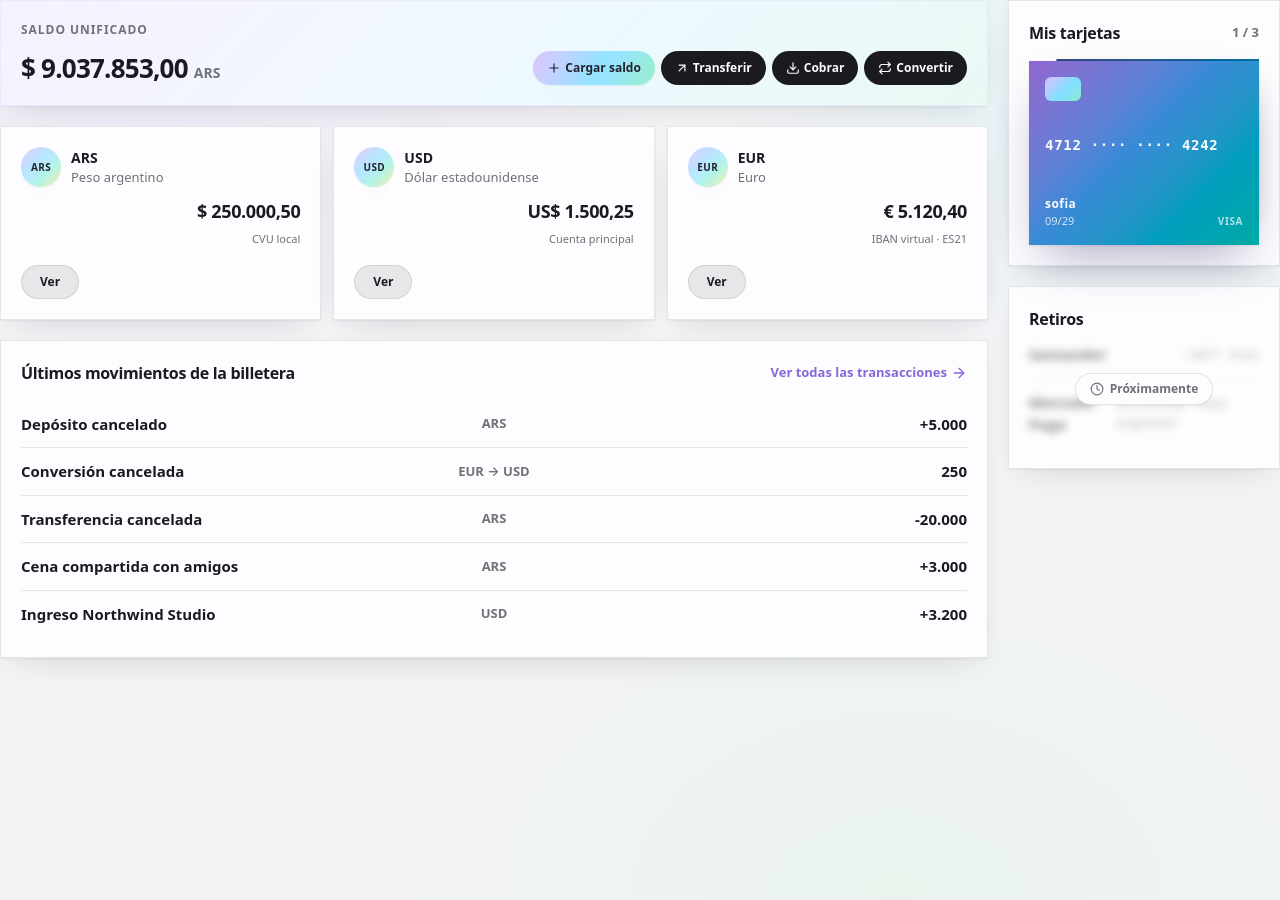
Test: WalletSummary — límites de depósito › exceso de monto: muestra el error en tiempo real y deshabilita Continuar
This screenshot has width=1280, height=900.
Step 1. Click the button "Cargar saldo" → (594,68), box [533, 51, 655, 85]
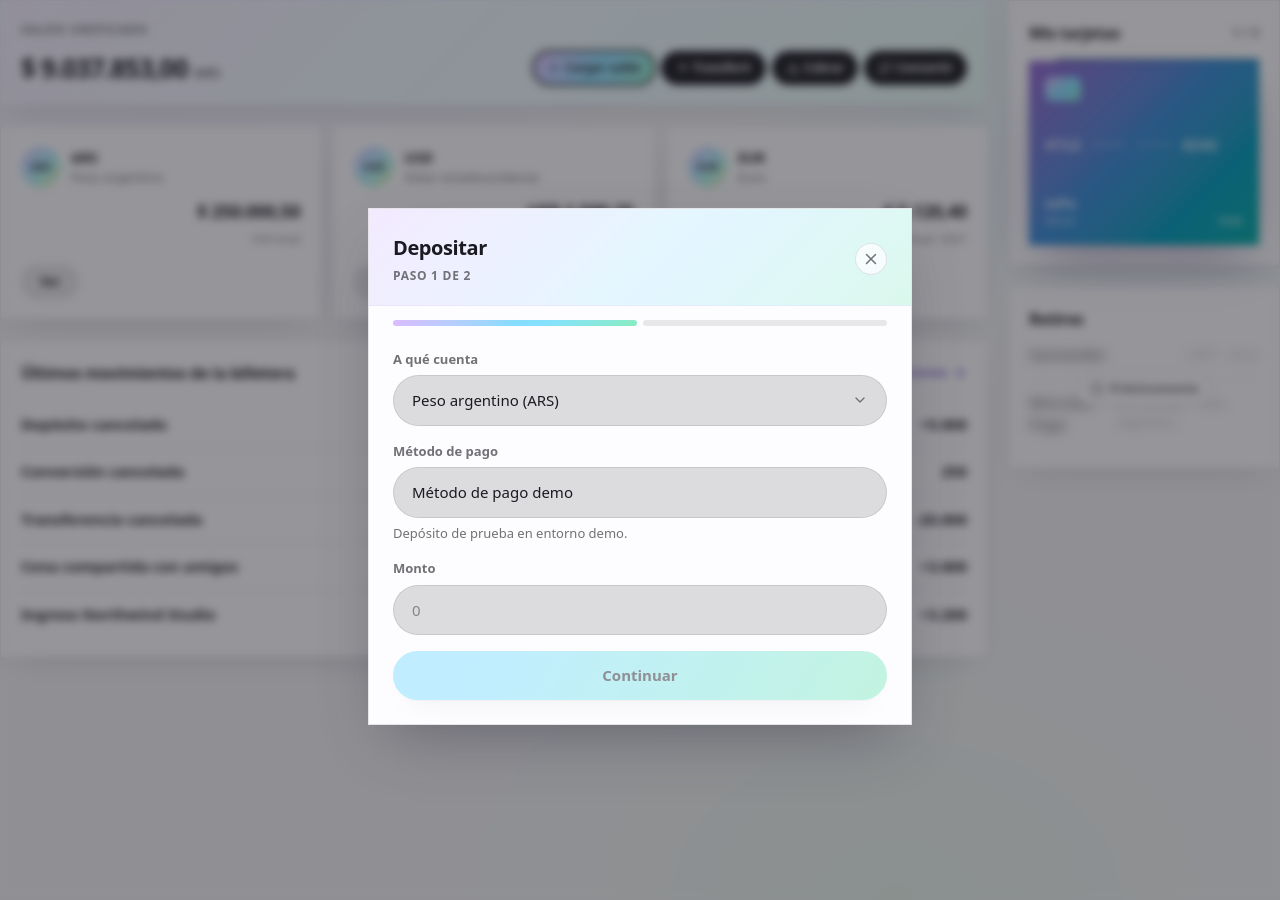
Step 2. Type "11000000" into the number field labelled "Monto" → (640,610), box [393, 584, 887, 635]
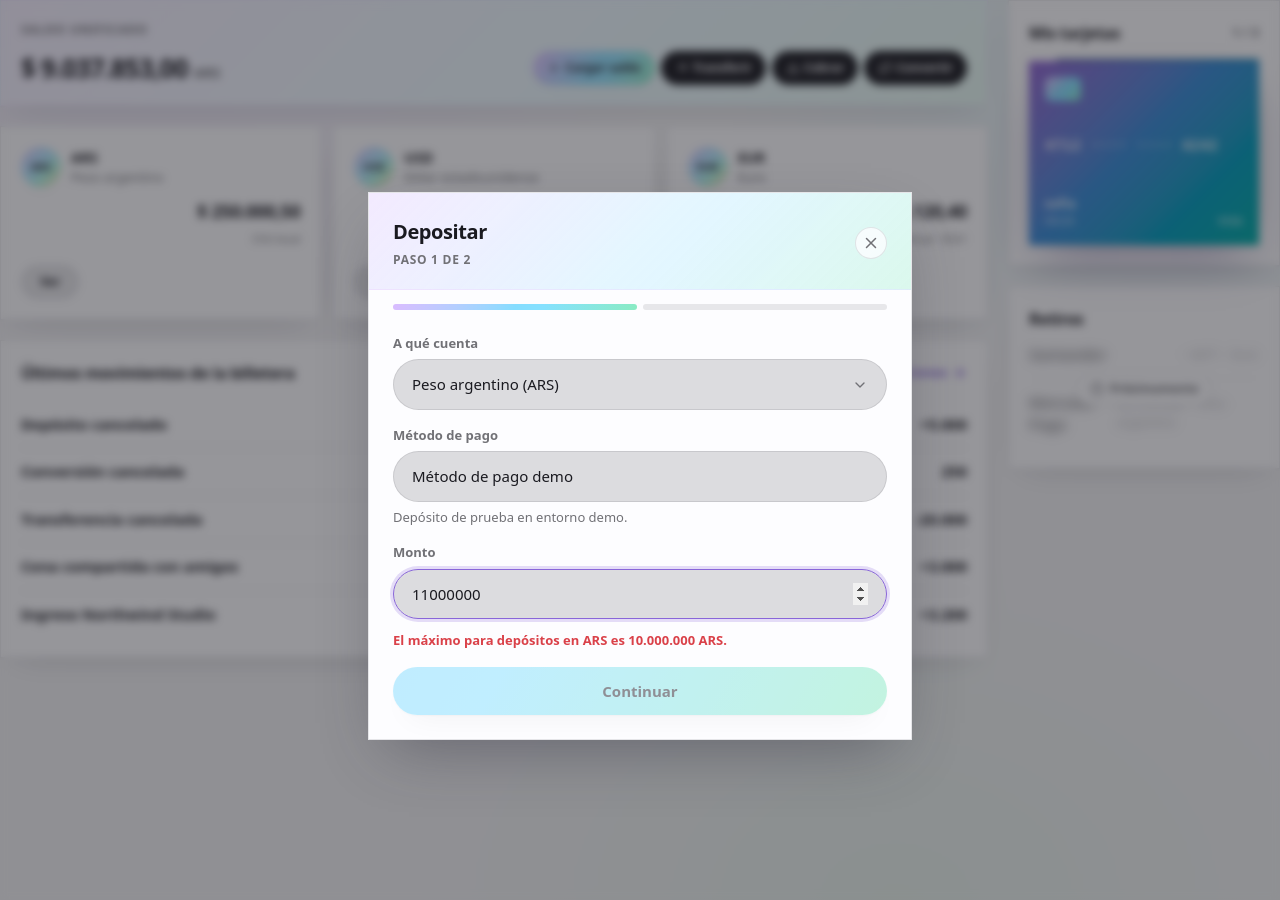
Check: the button "Continuar" is disabled, box [393, 667, 887, 715]
Check: the text "El máximo para depósitos en ARS es 10.000.000 ARS." is shown, box [393, 631, 727, 649]
